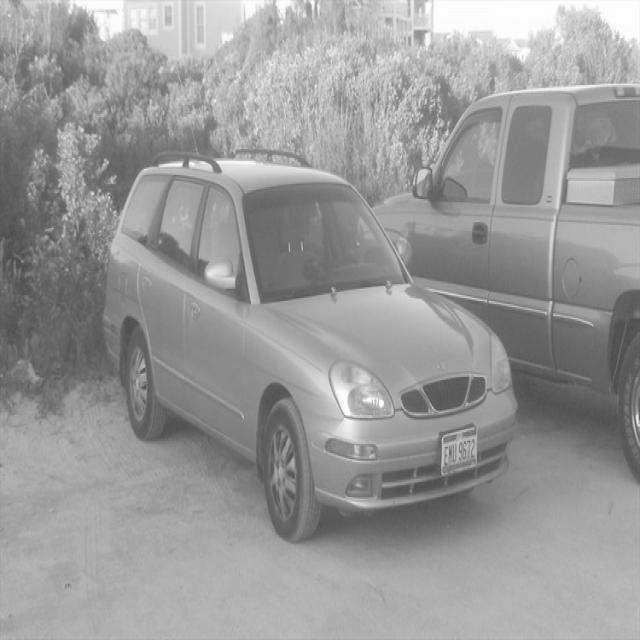car: (102, 148, 518, 542)
plat_license: (439, 424, 478, 477)
